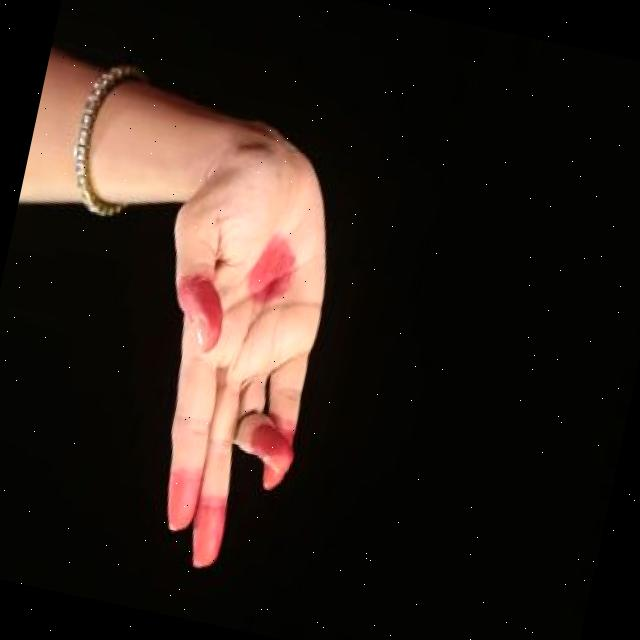Tripataka: (76, 83, 398, 602)
